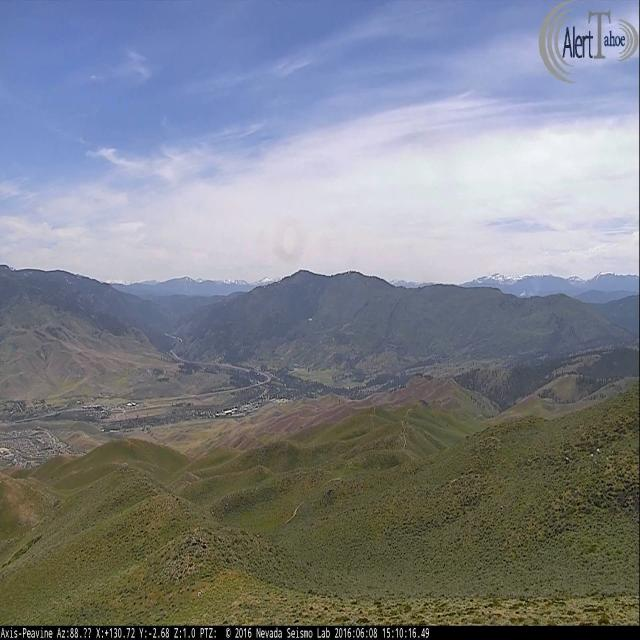smoke: (518, 283, 540, 297)
